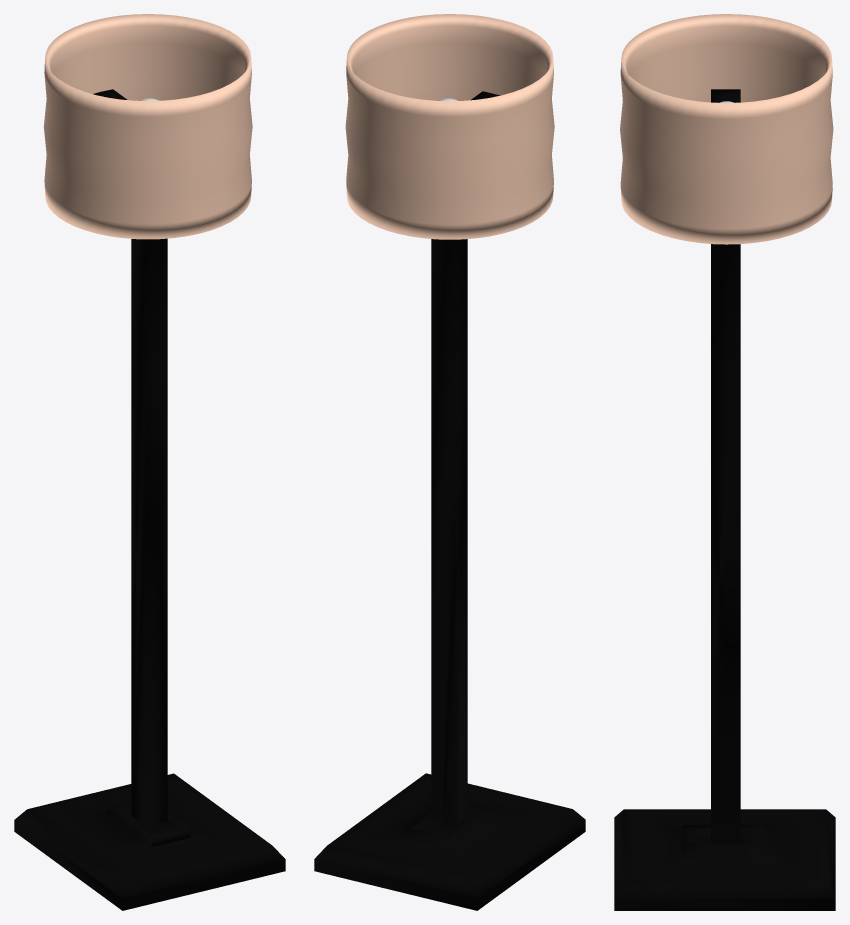
File: Test lamp 1.fbx
3 views of the same model, side by side, from view 1: azimuth 30°, elevation 25°; view 2: azimuth 150°, elevation 25°; view 3: azimuth 270°, elevation 25° (orthographic). The views are drawn at different scales.
Visible parts, largest first — view 1: Cylinder; view 2: Cylinder; view 3: Cylinder.
Boxes of the visible parts, left/top/right/bottom form: Cylinder: left=14, top=14, right=285, bottom=910; Cylinder: left=314, top=14, right=585, bottom=910; Cylinder: left=614, top=14, right=835, bottom=910.
Bounding box in the file's own units: 157 × 657 × 162.
